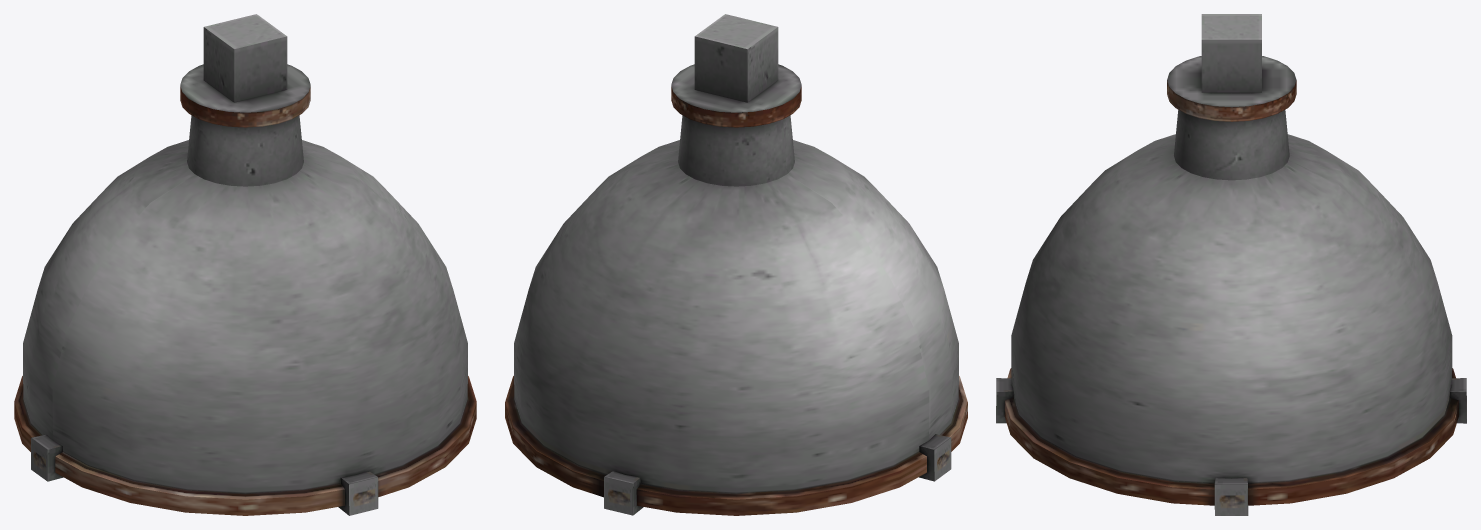
File: industriallight01.glb
3 views of the same model, side by side, from view 1: azimuth 30°, elevation 25°; view 2: azimuth 150°, elevation 25°; view 3: azimuth 270°, elevation 25° (orthographic).
Parts seen in each view (by area): view 1: industriallight01; view 2: industriallight01; view 3: industriallight01.
Boxes of the visible parts, x1,y1,x2,y2 form: industriallight01: (14,14,476,515); industriallight01: (505,14,967,515); industriallight01: (996,14,1466,515).
Size of the model in its own units: 0.5495 by 0.5093 by 0.5495.
Materials: 1 (1 with a texture image).
